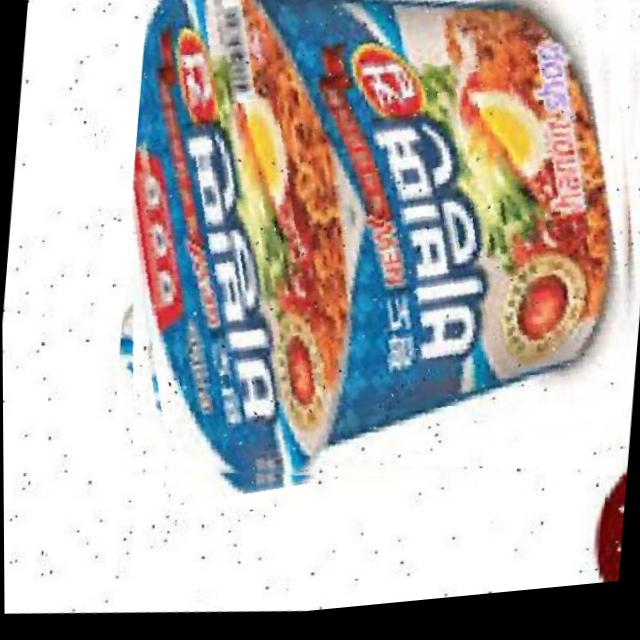Miscellaneous: (103, 0, 640, 535)
